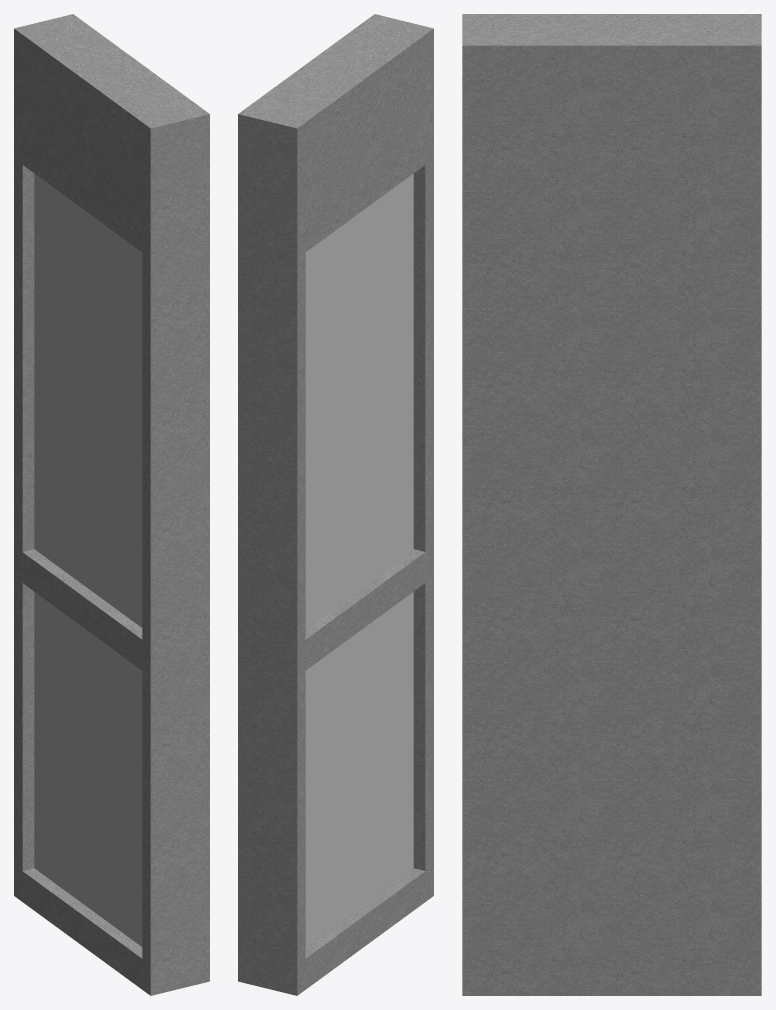
The model's file is SM_Wall_c_2.fbx.
3 renders of one model, left to right at view 1: azimuth 30°, elevation 25°; view 2: azimuth 150°, elevation 25°; view 3: azimuth 270°, elevation 25°, orthographic. The views are drawn at different scales.
Visible parts, largest first — view 1: SM_Wall_c_2_LOD0; view 2: SM_Wall_c_2_LOD0; view 3: SM_Wall_c_2_LOD0.
Part boxes in pixels (<box>): SM_Wall_c_2_LOD0: <box>14,14,209,995</box>; SM_Wall_c_2_LOD0: <box>238,14,433,995</box>; SM_Wall_c_2_LOD0: <box>462,14,761,995</box>.
Bounding box in the file's own units: 100 × 400 × 1400.
Materials: 2 (1 with a texture image).
